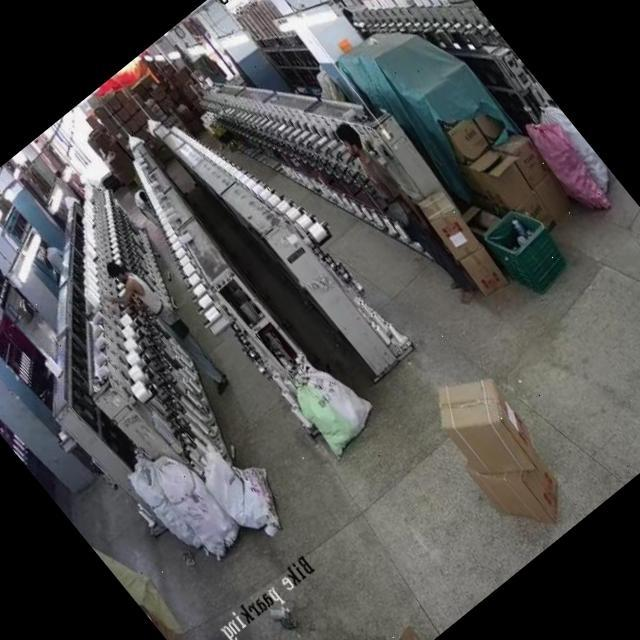person: (321, 115, 485, 306), (100, 246, 230, 397), (124, 182, 164, 226), (39, 240, 70, 274)
